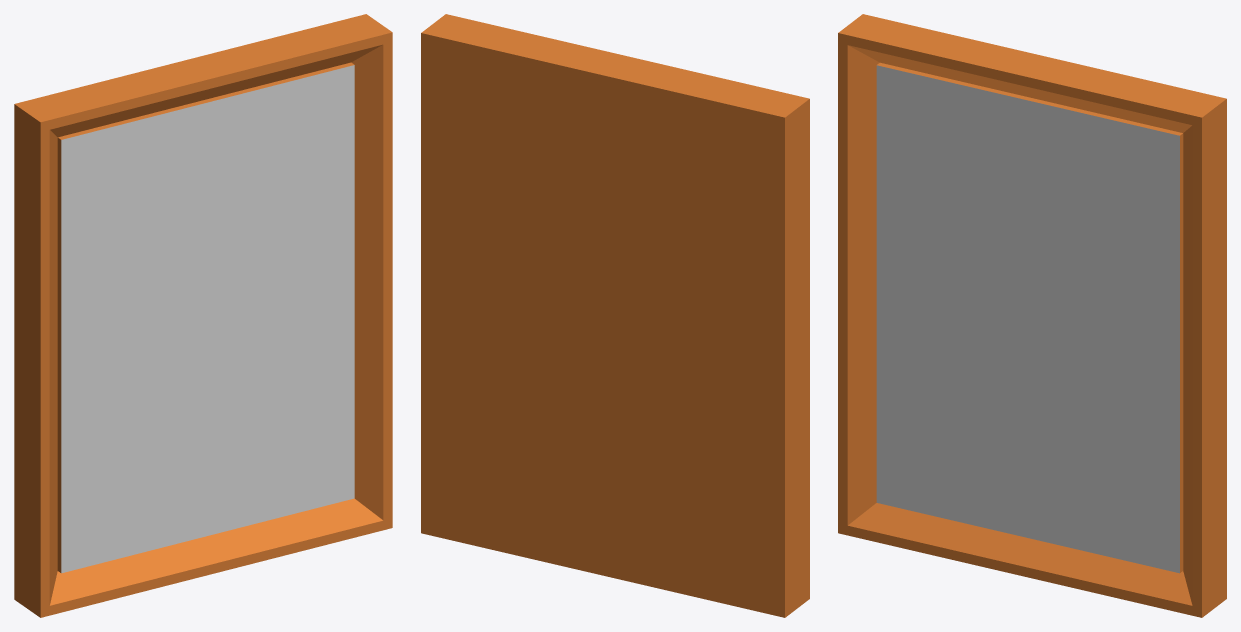
The model's file is cuadro2.fbx.
3 renders of one model, left to right at view 1: azimuth 30°, elevation 25°; view 2: azimuth 150°, elevation 25°; view 3: azimuth 330°, elevation 25°, orthographic.
Visible parts, largest first — view 1: cuadro; view 2: cuadro; view 3: cuadro.
Boxes of the visible parts, box(x1,y1,x2,y2) form: cuadro: box(14, 14, 392, 617); cuadro: box(421, 14, 809, 617); cuadro: box(838, 14, 1226, 617).
Bounding box in the file's own units: 33.15 × 43.95 × 4.76.
